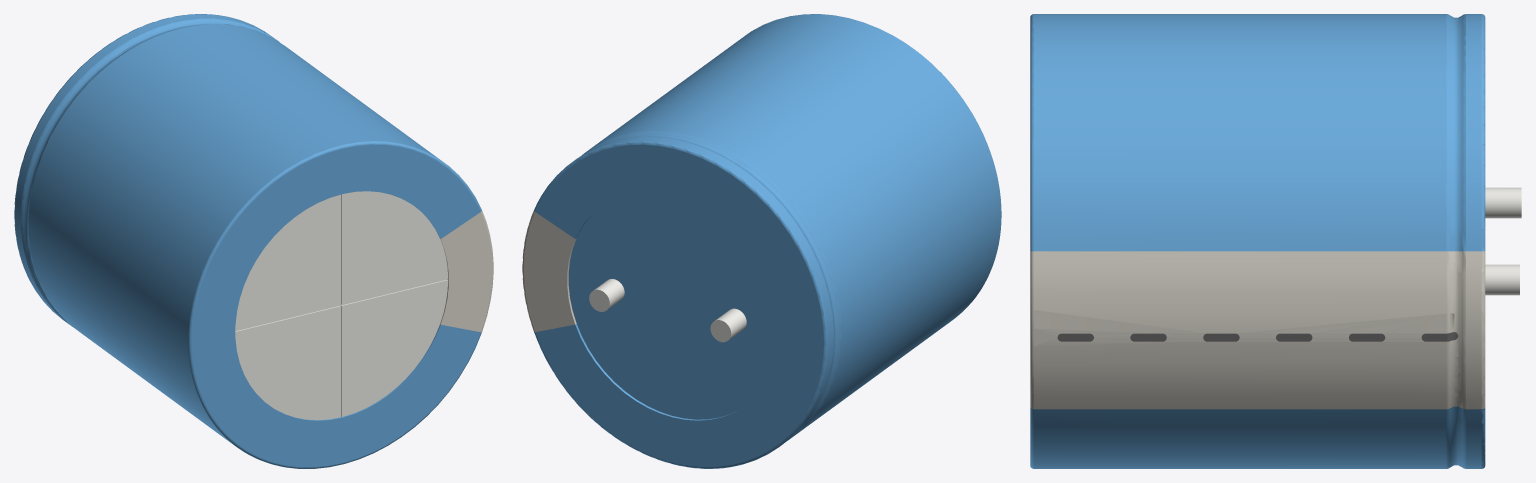
The model's file is CP_Radial_D25.0mm_P10.00mm_SnapIn.glb.
The picture shows the model from 3 angles, left to right: view 1: azimuth 30°, elevation 25°; view 2: azimuth 150°, elevation 25°; view 3: azimuth 270°, elevation 25°; orthographic projection. The views are drawn at different scales.
Visible parts, largest first — view 1: Shape_IndexedFaceSet.021, Shape_IndexedFaceSet.032, Shape_IndexedFaceSet.036, Shape_IndexedFaceSet.042, Shape_IndexedFaceSet.038, Shape_IndexedFaceSet.045, Shape_IndexedFaceSet.033, Shape_IndexedFaceSet.011, Shape_IndexedFaceSet.024, Shape_IndexedFaceSet.015, Shape_IndexedFaceSet.013, Shape_IndexedFaceSet.039; view 2: Shape_IndexedFaceSet.021, Shape_IndexedFaceSet.002, Shape_IndexedFaceSet.006, Shape_IndexedFaceSet.007, Shape_IndexedFaceSet.011, Shape_IndexedFaceSet.009, Shape_IndexedFaceSet.015, Shape_IndexedFaceSet.017, Shape_IndexedFaceSet.013; view 3: Shape_IndexedFaceSet.021, Shape_IndexedFaceSet.023, Shape_IndexedFaceSet.011, Shape_IndexedFaceSet.015, Shape_IndexedFaceSet.012, Shape_IndexedFaceSet.016, Shape_IndexedFaceSet.017, Shape_IndexedFaceSet.009, Shape_IndexedFaceSet.013, Shape_IndexedFaceSet.024, Shape_IndexedFaceSet.005, Shape_IndexedFaceSet.001 (+3 smaller).
Boxes of the visible parts, <box> form: Shape_IndexedFaceSet.021: <box>28,24,439,445</box>; Shape_IndexedFaceSet.032: <box>192,144,480,467</box>; Shape_IndexedFaceSet.036: <box>342,280,447,416</box>; Shape_IndexedFaceSet.042: <box>235,306,340,420</box>; Shape_IndexedFaceSet.038: <box>342,191,447,304</box>; Shape_IndexedFaceSet.045: <box>235,195,340,330</box>; Shape_IndexedFaceSet.033: <box>441,212,492,332</box>; Shape_IndexedFaceSet.011: <box>15,14,273,324</box>; Shape_IndexedFaceSet.024: <box>188,141,481,468</box>; Shape_IndexedFaceSet.015: <box>23,20,263,312</box>; Shape_IndexedFaceSet.013: <box>21,18,279,326</box>; Shape_IndexedFaceSet.039: <box>235,195,447,416</box>; Shape_IndexedFaceSet.021: <box>587,14,1000,435</box>; Shape_IndexedFaceSet.002: <box>568,191,780,419</box>; Shape_IndexedFaceSet.006: <box>535,144,823,466</box>; Shape_IndexedFaceSet.007: <box>523,212,574,331</box>; Shape_IndexedFaceSet.011: <box>571,136,833,444</box>; Shape_IndexedFaceSet.009: <box>534,141,827,468</box>; Shape_IndexedFaceSet.015: <box>597,133,838,424</box>; Shape_IndexedFaceSet.017: <box>582,131,841,436</box>; Shape_IndexedFaceSet.013: <box>605,136,834,430</box>; Shape_IndexedFaceSet.021: <box>1034,14,1446,468</box>; Shape_IndexedFaceSet.023: <box>1034,251,1446,409</box>; Shape_IndexedFaceSet.011: <box>1466,14,1481,468</box>; Shape_IndexedFaceSet.015: <box>1450,15,1462,467</box>; Shape_IndexedFaceSet.012: <box>1466,251,1481,409</box>; Shape_IndexedFaceSet.016: <box>1450,251,1462,407</box>; Shape_IndexedFaceSet.017: <box>1446,14,1450,468</box>; Shape_IndexedFaceSet.009: <box>1481,14,1485,468</box>; Shape_IndexedFaceSet.013: <box>1462,14,1465,468</box>; Shape_IndexedFaceSet.024: <box>1030,14,1033,468</box>; Shape_IndexedFaceSet.005: <box>1485,187,1521,218</box>; Shape_IndexedFaceSet.001: <box>1485,264,1519,295</box>.
Bounding box in the file's own units: 9.84 × 9.84 × 10.63.
